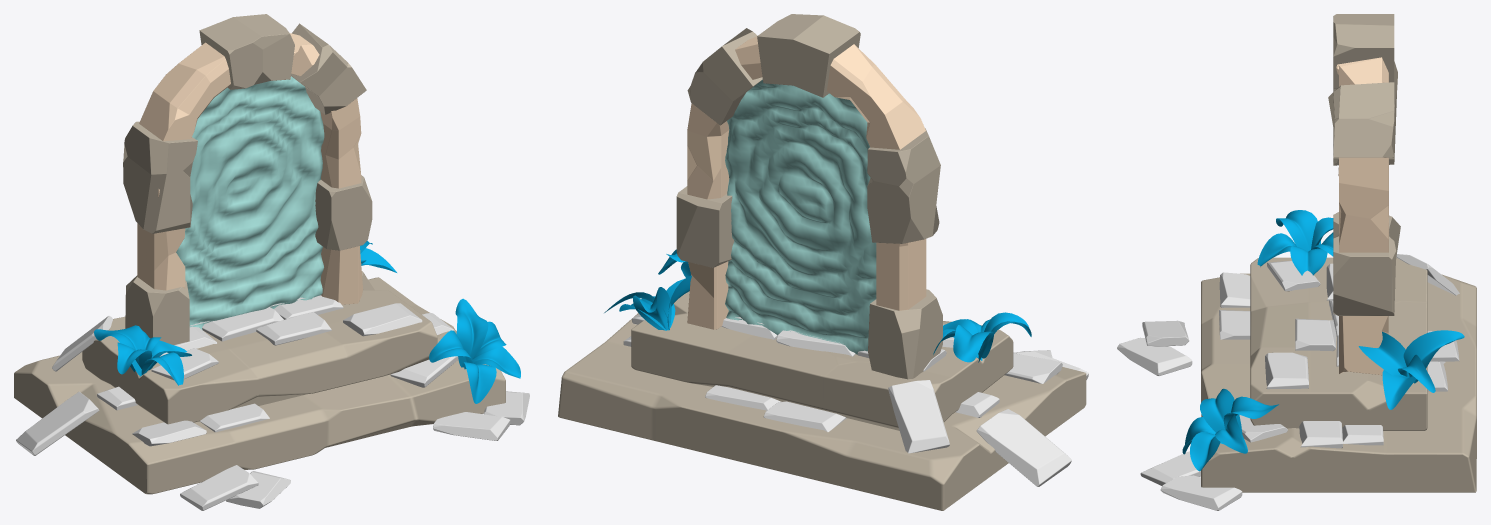
Rendered from portal_gate.fbx.
The picture shows the model from 3 angles, left to right: view 1: azimuth 30°, elevation 25°; view 2: azimuth 150°, elevation 25°; view 3: azimuth 270°, elevation 25°; orthographic projection. The views are drawn at different scales.
Parts seen in each view (by area): view 1: Plane.003, Plane.004, Plane.001, Plane.002, Plane, Plane.008, Plane.006, Cube.009, Cube.019, Cube.016, Stone Slab, Cube.015 (+10 smaller); view 2: Plane.003, Plane.004, Plane.001, Plane.002, Plane, Cube.009, Cube.014, Plane.006, Plane.007, Cube.013, Cube.002, Cube.012 (+3 smaller); view 3: Plane.004, Plane.002, Plane.001, Plane, Plane.008, Plane.007, Plane.006, Cube.017, Cube.018, Stone Slab, Cube.015, Cube.011 (+10 smaller).
Boxes of the visible parts, <box> form: Plane.003: <box>176,76,324,329</box>; Plane.004: <box>14,277,505,494</box>; Plane.001: <box>123,14,372,344</box>; Plane.002: <box>82,271,437,424</box>; Plane: <box>137,33,363,304</box>; Plane.008: <box>429,298,520,403</box>; Plane.006: <box>94,325,191,385</box>; Cube.009: <box>16,391,99,455</box>; Cube.019: <box>180,465,258,510</box>; Cube.016: <box>433,412,510,440</box>; Stone Slab: <box>343,303,422,336</box>; Cube.015: <box>256,312,331,345</box>; Plane.003: <box>725,79,876,354</box>; Plane.004: <box>558,313,1086,510</box>; Plane.001: <box>676,14,942,379</box>; Plane.002: <box>631,291,1013,430</box>; Plane: <box>687,36,926,329</box>; Cube.009: <box>976,409,1071,486</box>; Cube.014: <box>888,380,949,453</box>; Plane.006: <box>933,312,1031,362</box>; Plane.007: <box>604,275,691,330</box>; Cube.013: <box>763,401,846,431</box>; Cube.002: <box>1004,353,1062,383</box>; Cube.012: <box>705,385,781,410</box>; Plane.004: <box>1201,273,1476,492</box>; Plane.002: <box>1250,257,1427,430</box>; Plane.001: <box>1328,14,1400,315</box>; Plane: <box>1336,57,1388,375</box>; Plane.008: <box>1182,388,1278,471</box>; Plane.007: <box>1358,330,1464,409</box>; Plane.006: <box>1257,210,1333,275</box>; Cube.017: <box>1160,475,1242,510</box>; Cube.018: <box>1117,337,1192,375</box>; Stone Slab: <box>1265,352,1308,389</box>; Cube.015: <box>1295,318,1336,351</box>; Cube.011: <box>1299,421,1342,448</box>.
Size of the model in its own units: 592 by 475 by 406.
